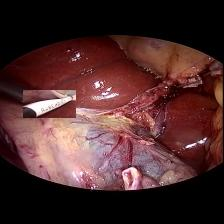Hook: (23, 89, 76, 117)
